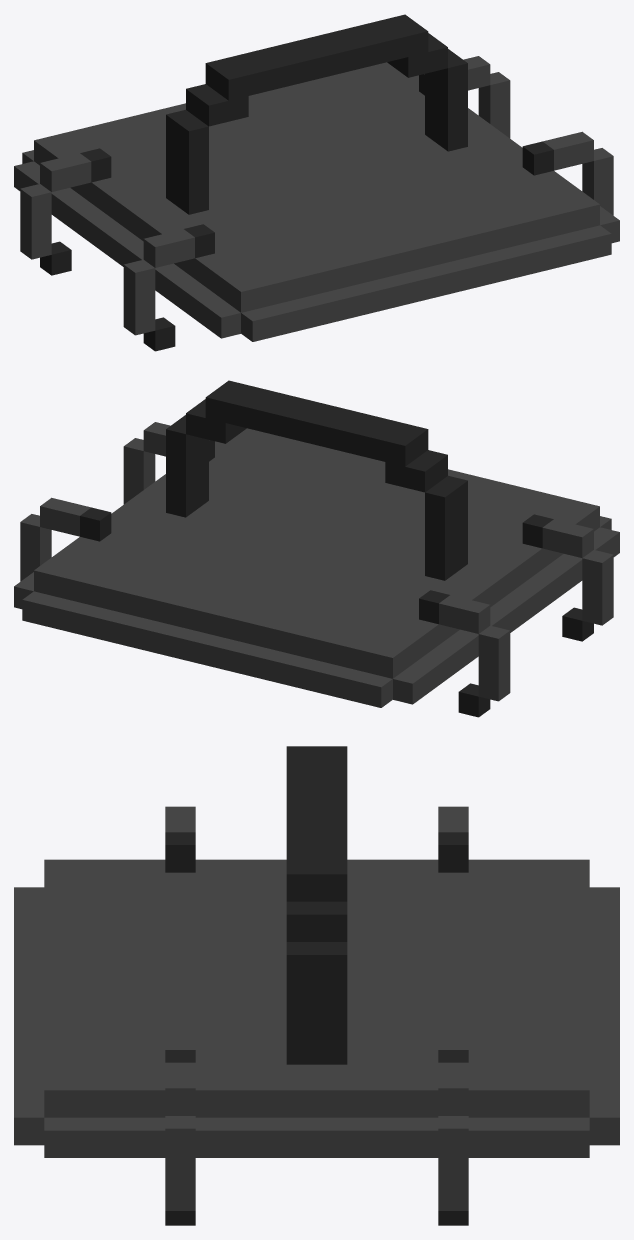
The model's file is chestlid.obj.
3 views of the same model, one above another, from view 1: azimuth 30°, elevation 25°; view 2: azimuth 150°, elevation 25°; view 3: azimuth 270°, elevation 25° (orthographic). The views are drawn at different scales.
Size of the model in its own units: 2.4 by 1 by 2.
1 material, 1 textured.
